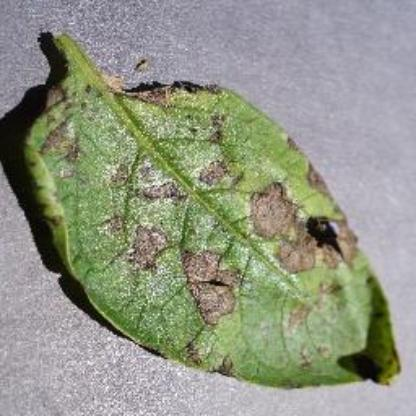Early-Blight: (23, 27, 401, 390)
